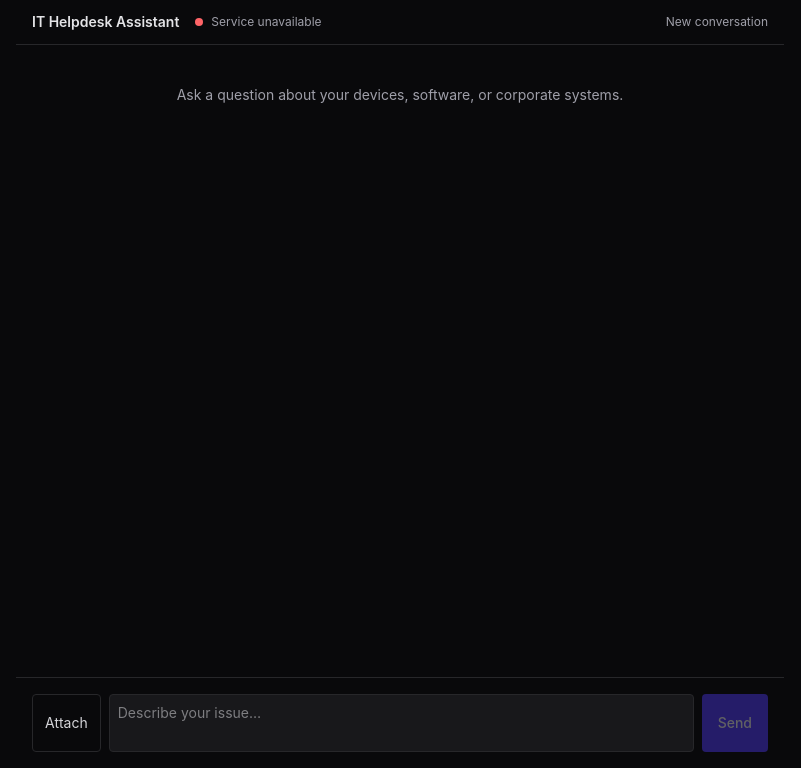
Test: App over SignalR › reports when server cancellation is rejected
The width and height of the screenshot is (801, 768).
Type "question" into the text box named "Message" at (401, 723), box [109,694,694,752]
Then press Enter
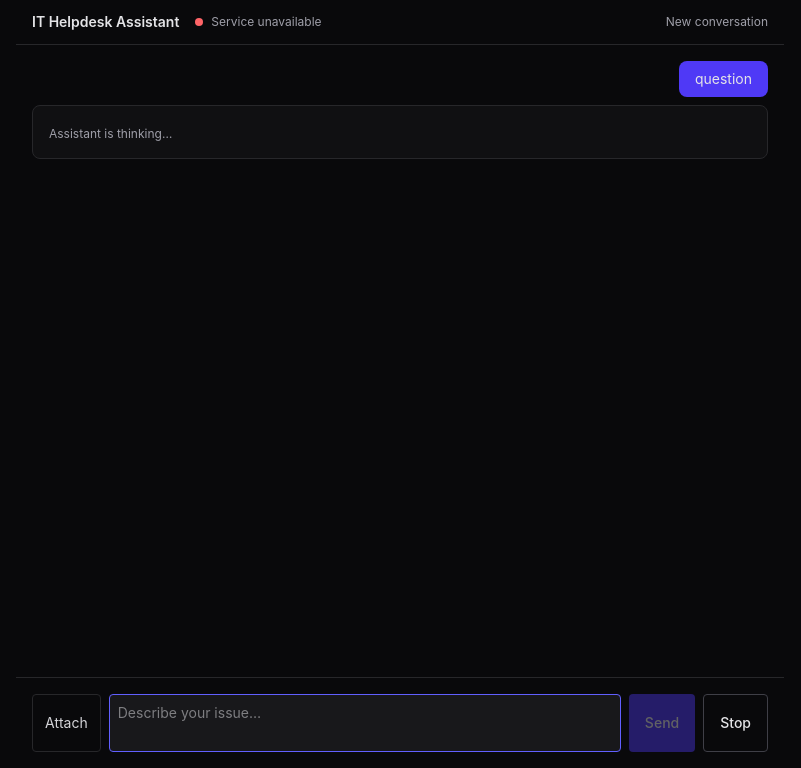
Click the button "Stop" at (736, 723), box [703,694,768,752]
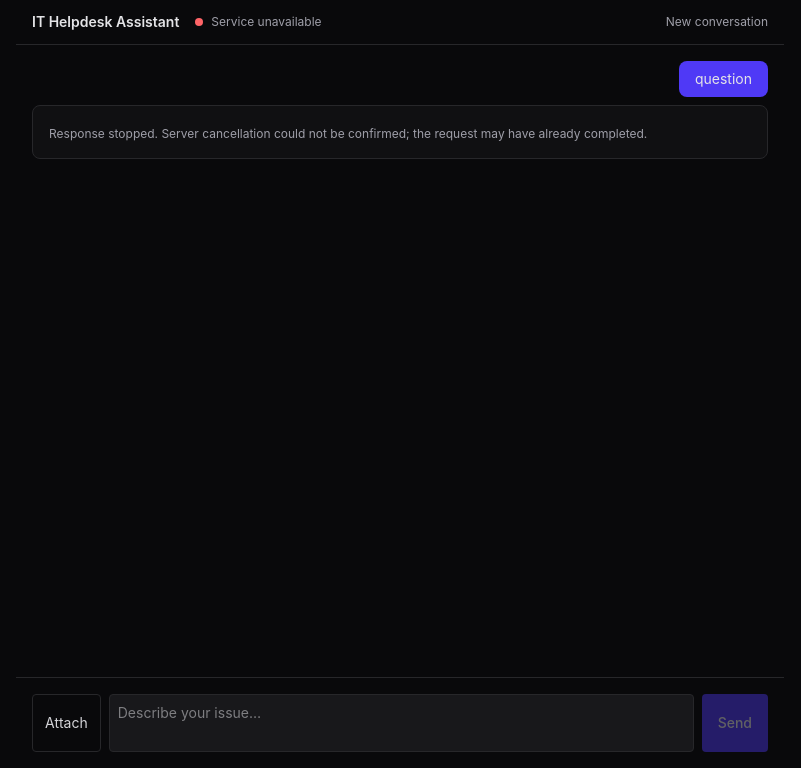
expect the text "Server cancellation could not be confirmed" is shown: met, box [49,126,647,141]
Type "next" into the text box named "Message" at (401, 723), box [109,694,694,752]
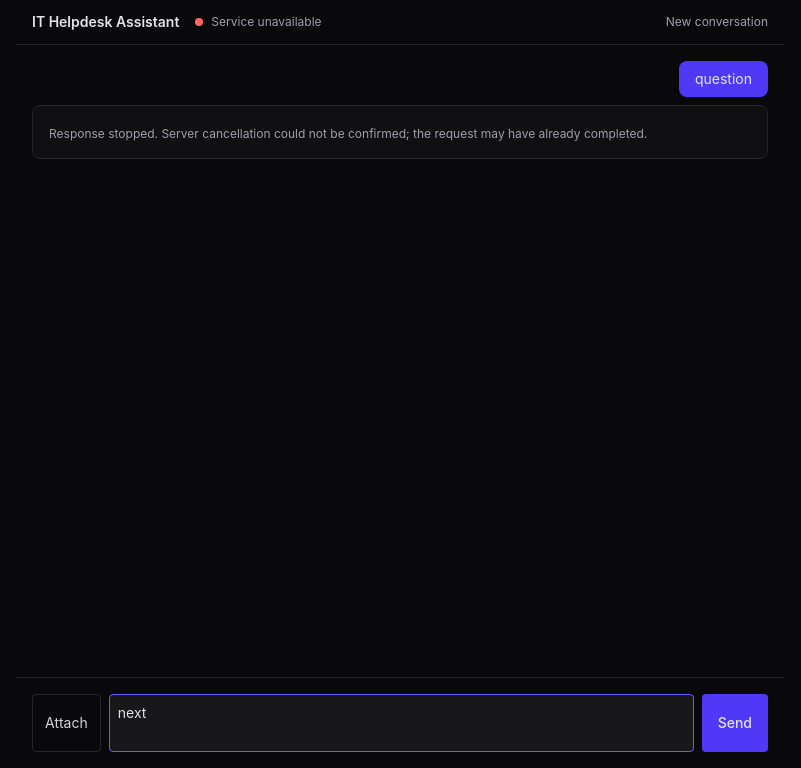
expect the button "Send" is enabled: met, box [702,694,768,752]
